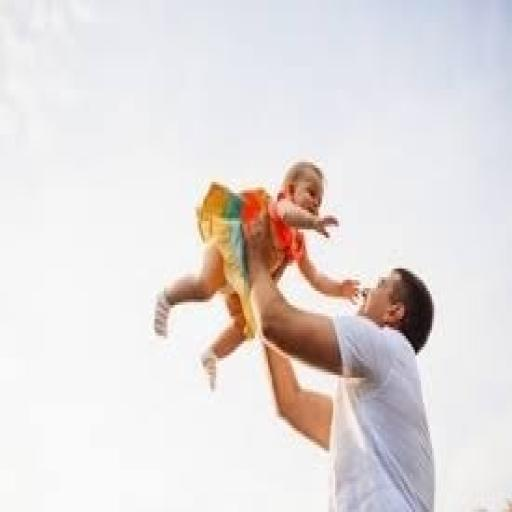hugging: (151, 156, 361, 394), (242, 255, 438, 509)
